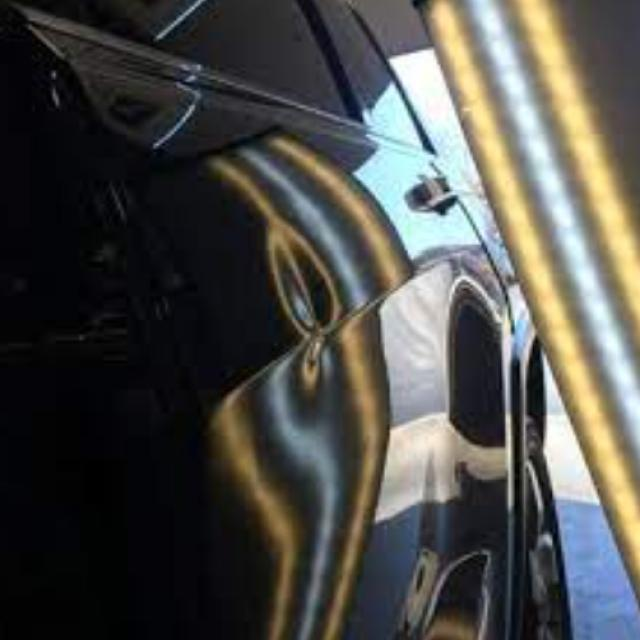dents: (440, 282, 510, 474), (262, 240, 352, 353), (412, 532, 504, 639)
